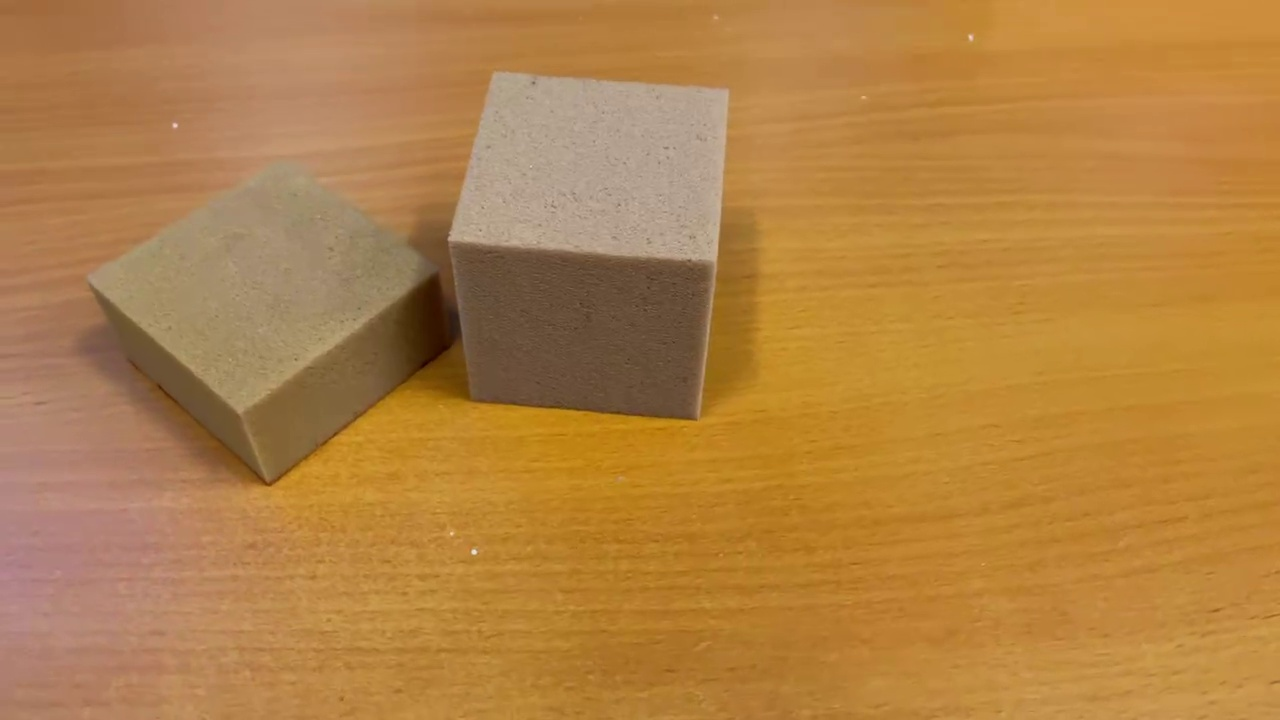Cube: (445, 64, 732, 426)
Cube_short: (86, 149, 461, 498)
